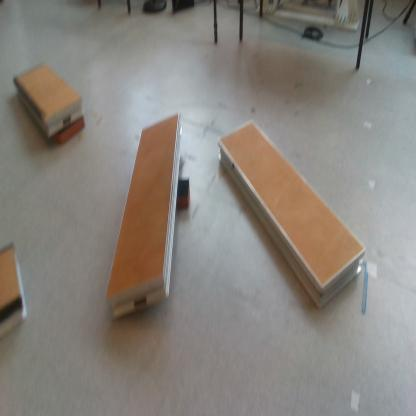Stairs: (218, 119, 368, 310), (105, 111, 185, 324), (16, 63, 85, 139), (1, 244, 29, 342)
